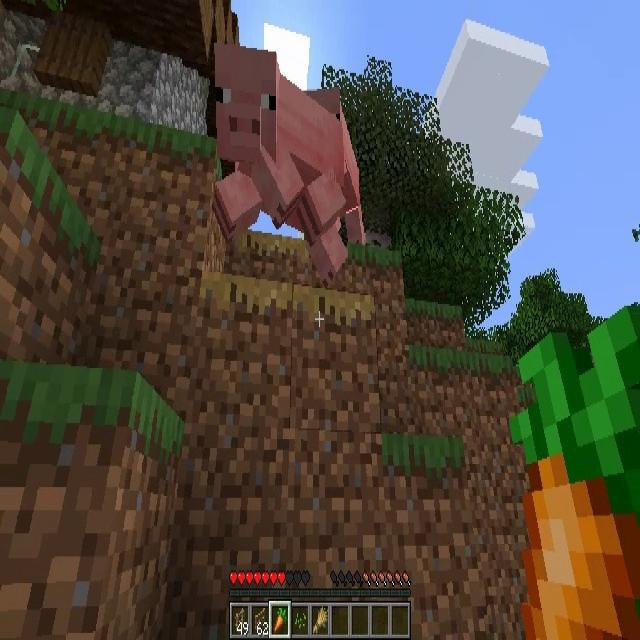pig: (216, 35, 362, 277)
